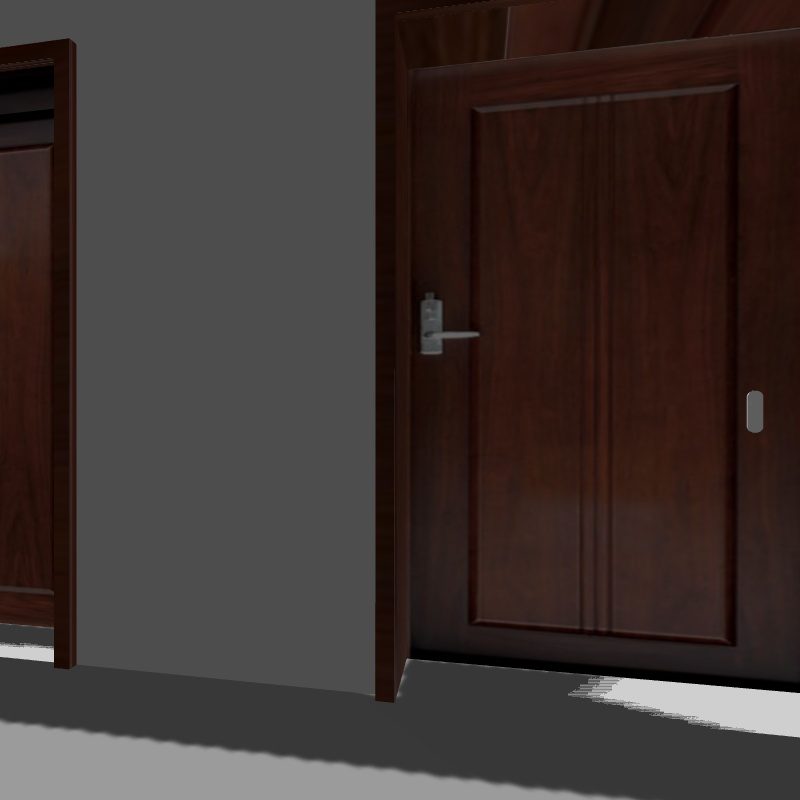handle: (408, 288, 480, 361)
